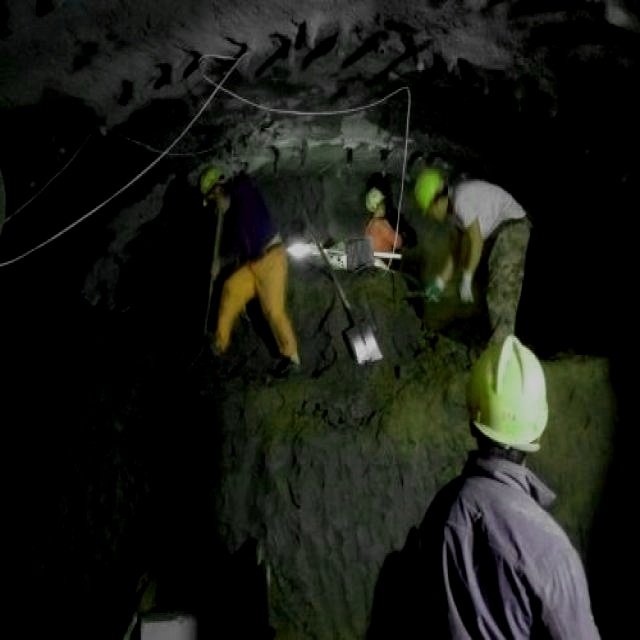Con_Casco: (465, 338, 548, 463)
Sin_Chaleco: (405, 483, 571, 640)
